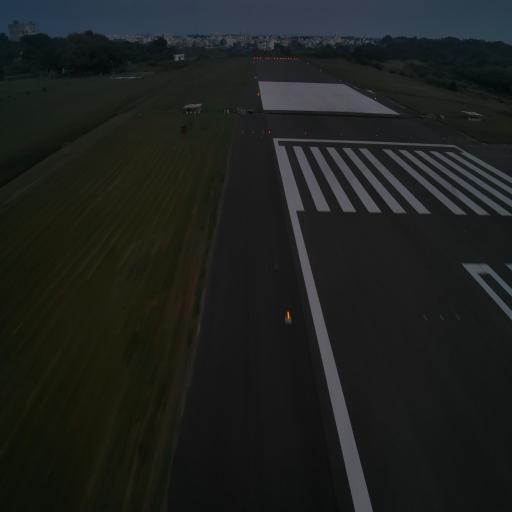off: (438, 309, 445, 327), (422, 310, 428, 325), (454, 311, 461, 322)
on: (285, 307, 291, 329)
